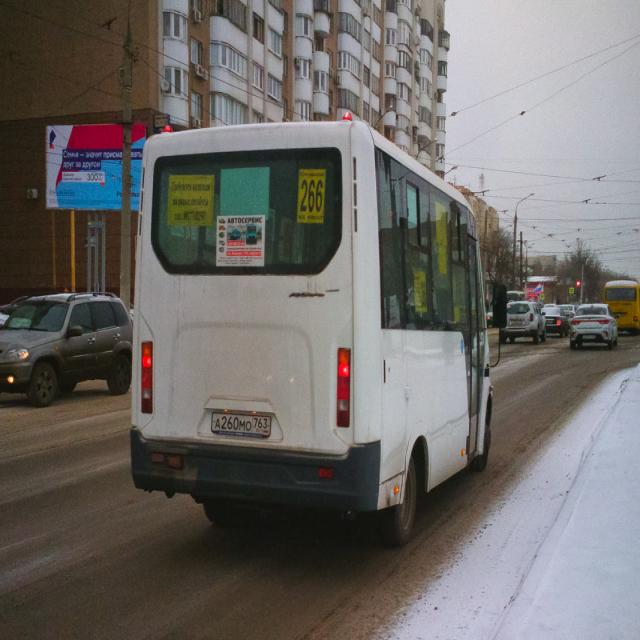number-of-bus: (300, 178, 326, 215)
